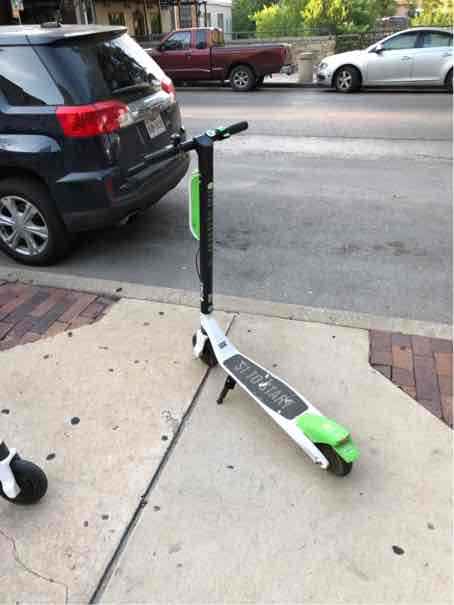scooter: (133, 112, 373, 484)
